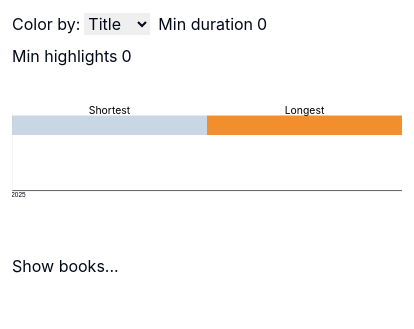
it: ReadingTimeline › renders a legend for books with matching colors
Click the button "Show books..." at (65, 266), box [12, 254, 119, 278]
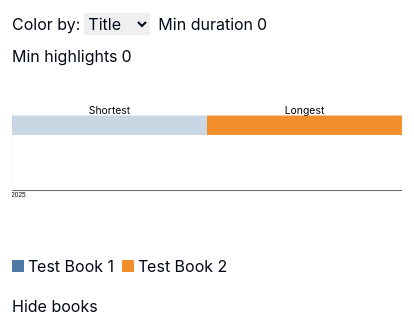
Now the number of list items is 2, box [12, 254, 114, 278]; [122, 254, 227, 278]
Now the list item "Test Book 1" is shown, box [12, 254, 114, 278]
